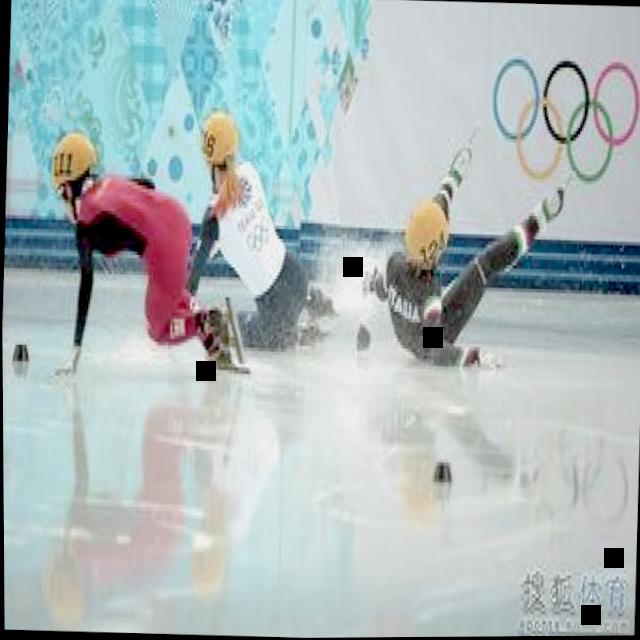Fall-Detected: (35, 102, 251, 385)
